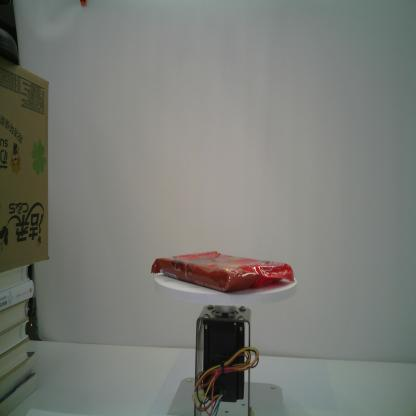Dessert: (150, 251, 296, 293)
